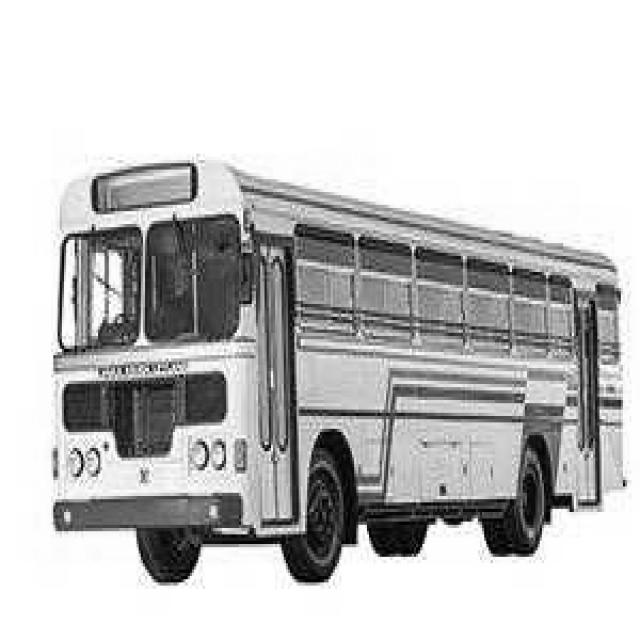Bus: (54, 160, 622, 583)
